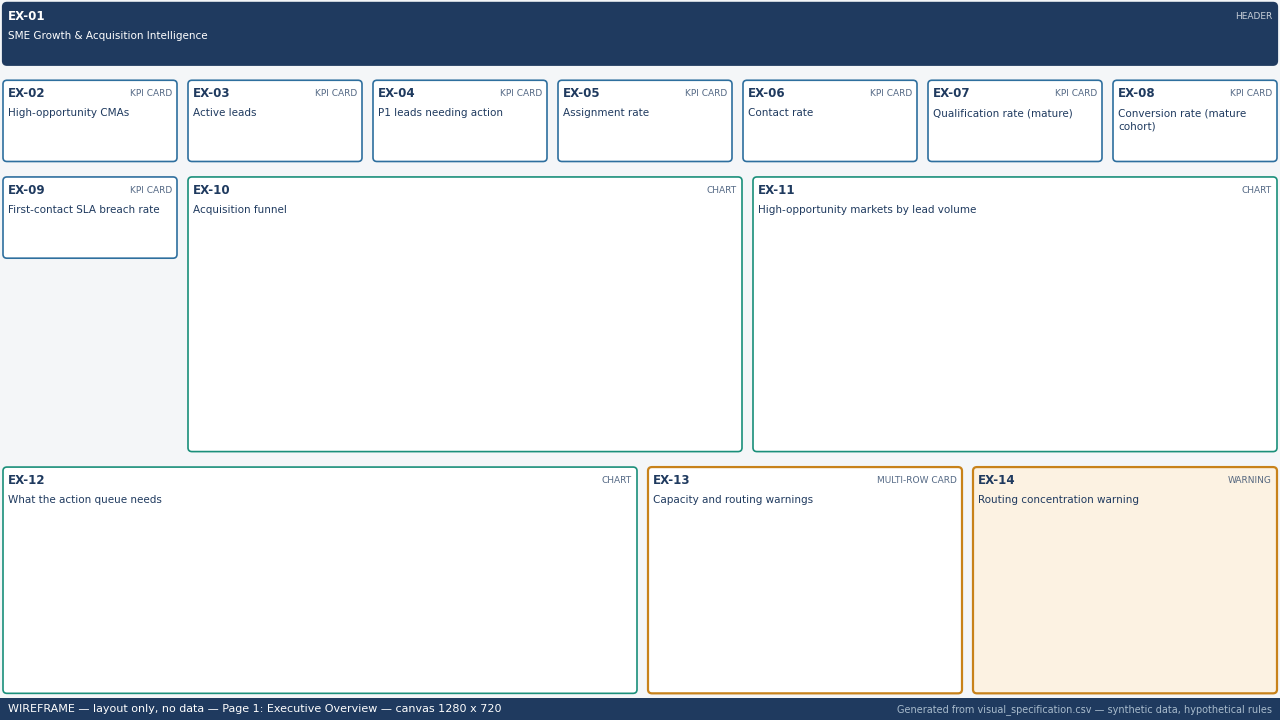

The dashboard page shown, as its layout file describes it:
{"tool":"powerbi","page":{"name":"Executive Overview","canvas":[1280,720],"ordinal":0},"visuals":[{"type":"textbox","box":[9.6,0,1254.2,74.1],"z":0},{"type":"cardVisual","fields":{"Data":["_Measures.Mature-Cohort Conversion Rate"]},"box":[1101,80,179,90],"z":1000},{"type":"cardVisual","fields":{"Data":["_Measures.Active Backlog"]},"box":[185,80,180,90],"z":2000},{"type":"cardVisual","fields":{"Data":["_Measures.P1 Leads Requiring Action"]},"box":[370,80,180,90],"z":3000},{"type":"cardVisual","fields":{"Data":["_Measures.Assignment Rate"]},"box":[555,80,180,90],"z":4000},{"type":"cardVisual","fields":{"Data":["_Measures.Contact Rate"]},"box":[740,80,180,90],"z":5000},{"type":"cardVisual","fields":{"Data":["_Measures.Qualification Rate (Mature)"]},"box":[925,80,180,90],"z":6000},{"type":"cardVisual","fields":{"Data":["_Measures.SLA Breach Rate"]},"box":[0,180,180,90],"z":7000},{"type":"cardVisual","fields":{"Data":["_Measures.High-Opportunity CMA Count"]},"box":[0,80,180,90],"z":8000},{"type":"funnel","title":"Acquisition Funnel","fields":{"Y":["_Measures.Captured Leads","_Measures.Valid Leads","_Measures.Assigned Leads","_Measures.Contacted Leads","_Measures.Qualified Leads (Mature)","_Measures.Converted Leads (Mature)"]},"box":[190.2,180.4,533.7,304.3],"z":9000},{"type":"clusteredBarChart","title":"High-Opportunity Markets by Lead Activity","fields":{"Category":["MarketFocus.cma_label_sgc2021"],"Y":["_Measures.Market Leads"]},"box":[735.5,179.8,528.3,301.9],"z":10000},{"type":"clusteredBarChart","title":"Top Recommended Actions by Actionable Leads","fields":{"Category":["ActionQueue.recommended_next_action"],"Y":["_Measures.Actionable Leads"]},"box":[9.6,484.4,355.4,236],"z":11000},{"type":"cardVisual","fields":{"Data":["_Measures.RMs Above Capacity Warning","_Measures.RMs At or Above Hard Limit","_Measures.Routing Top-Decile Share","_Measures.RMs With No Recommendations"]},"box":[365,484.4,450.1,236],"z":12000},{"type":"textbox","box":[845.3,481.6,418.5,238.8],"z":13000},{"type":"shape","box":[830.2,481.6,15.1,238.8],"z":14000}]}

Visuals, with their boxes in screenshot pixels (x1, y1, x2, y2), scaled from the page's 1280x720 canvas onto the 1280x720 screenshot:
textbox: <bbox>10, 0, 1264, 74</bbox>
cardVisual - _Measures.Mature-Cohort Conversion Rate: <bbox>1101, 80, 1279, 170</bbox>
cardVisual - _Measures.Active Backlog: <bbox>185, 80, 365, 170</bbox>
cardVisual - _Measures.P1 Leads Requiring Action: <bbox>370, 80, 550, 170</bbox>
cardVisual - _Measures.Assignment Rate: <bbox>555, 80, 735, 170</bbox>
cardVisual - _Measures.Contact Rate: <bbox>740, 80, 920, 170</bbox>
cardVisual - _Measures.Qualification Rate (Mature): <bbox>925, 80, 1105, 170</bbox>
cardVisual - _Measures.SLA Breach Rate: <bbox>0, 180, 180, 270</bbox>
cardVisual - _Measures.High-Opportunity CMA Count: <bbox>0, 80, 180, 170</bbox>
"Acquisition Funnel" funnel: <bbox>190, 180, 724, 485</bbox>
"High-Opportunity Markets by Lead Activity" clusteredBarChart: <bbox>736, 180, 1264, 482</bbox>
"Top Recommended Actions by Actionable Leads" clusteredBarChart: <bbox>10, 484, 365, 719</bbox>
cardVisual - _Measures.RMs Above Capacity Warning x _Measures.RMs At or Above Hard Limit: <bbox>365, 484, 815, 719</bbox>
textbox: <bbox>845, 482, 1264, 719</bbox>
shape: <bbox>830, 482, 845, 719</bbox>
